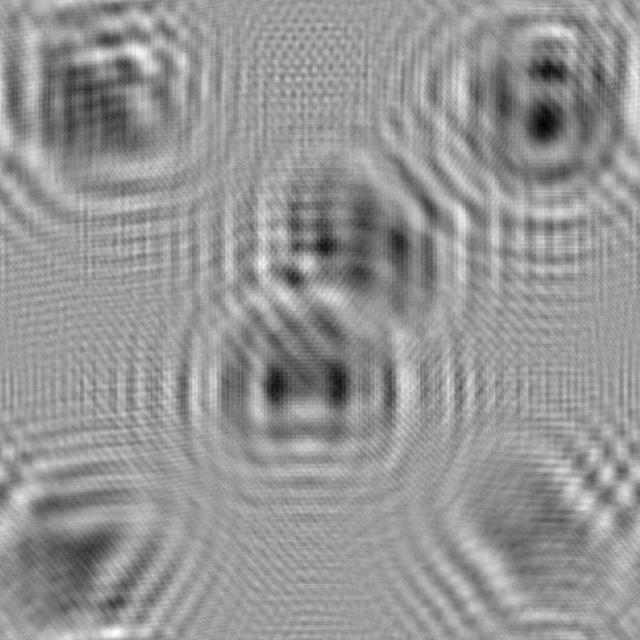E: (173, 266, 430, 505)
I: (405, 402, 640, 640)
K: (0, 0, 224, 217)
N: (227, 129, 480, 348)
R: (420, 0, 640, 234)
V: (0, 424, 214, 639)
